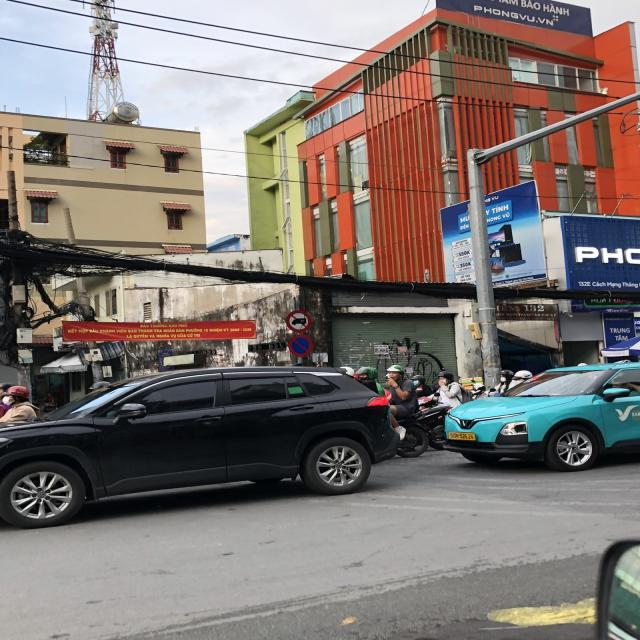Bien bao cam do xe: (286, 332, 314, 358)
Bien bao cam xe oto tai: (285, 308, 313, 333)
